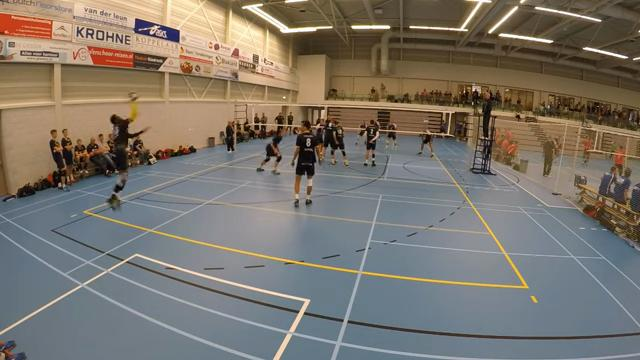Attack: (98, 86, 153, 213)
Player: (291, 120, 320, 206), (257, 131, 281, 174), (331, 120, 348, 166), (364, 120, 378, 166), (321, 119, 334, 160), (0, 340, 25, 359), (418, 130, 433, 157), (385, 121, 397, 149), (315, 119, 324, 144), (356, 121, 365, 145), (0, 340, 16, 351)
ball: (126, 89, 138, 102)
